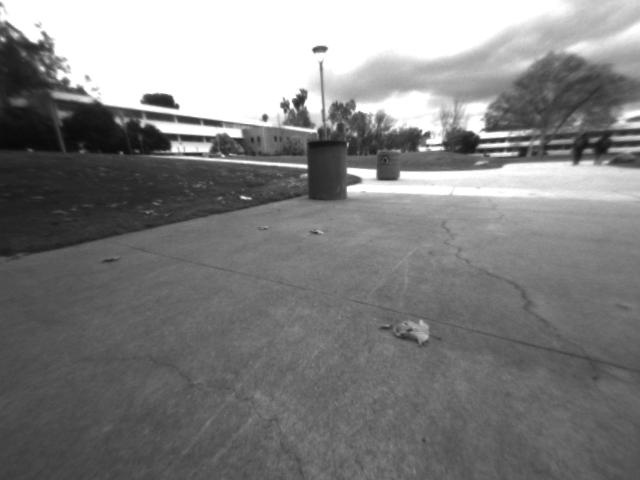trashcan: (307, 139, 348, 204), (376, 149, 400, 182)
